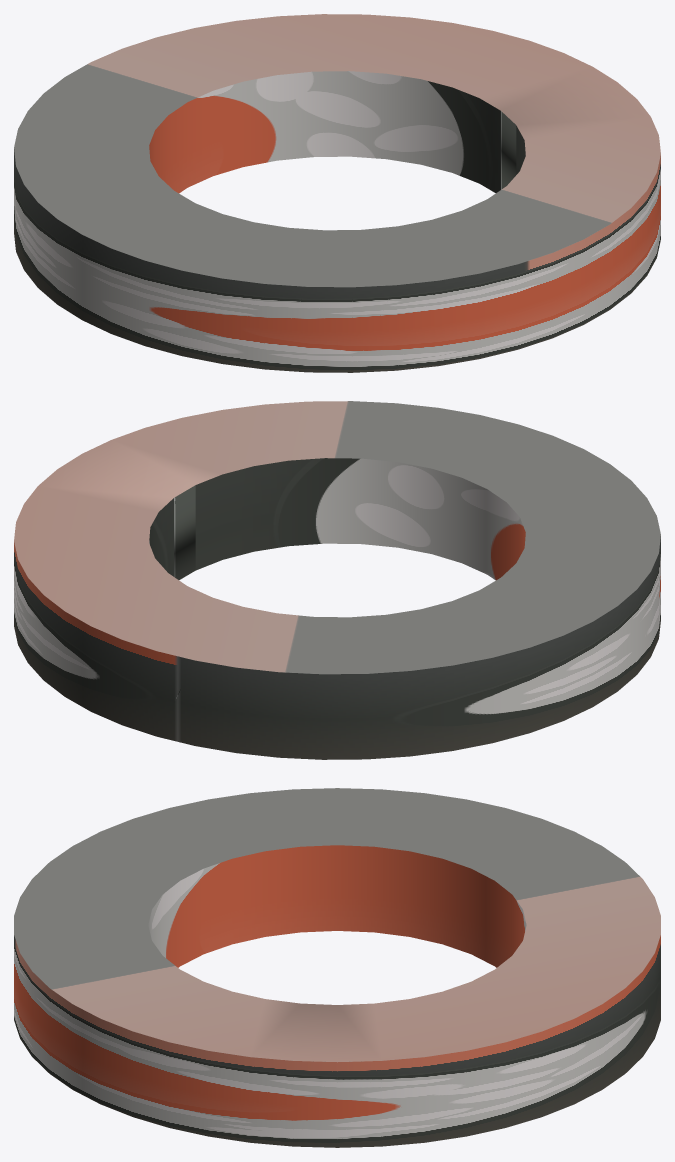
Rendered from Roll.FBX.
3 views of the same model, one above another, from view 1: azimuth 30°, elevation 25°; view 2: azimuth 150°, elevation 25°; view 3: azimuth 270°, elevation 25° (orthographic).
Parts seen in each view (by area): view 1: Roll_2; view 2: Roll_2; view 3: Roll_2.
Part boxes in pixels (x1,y1,x2,y2): Roll_2: (14, 14, 660, 372); Roll_2: (14, 401, 660, 759); Roll_2: (14, 788, 660, 1147).
Size of the model in its own units: 48 by 7 by 47.89.
1 material, 1 textured.
